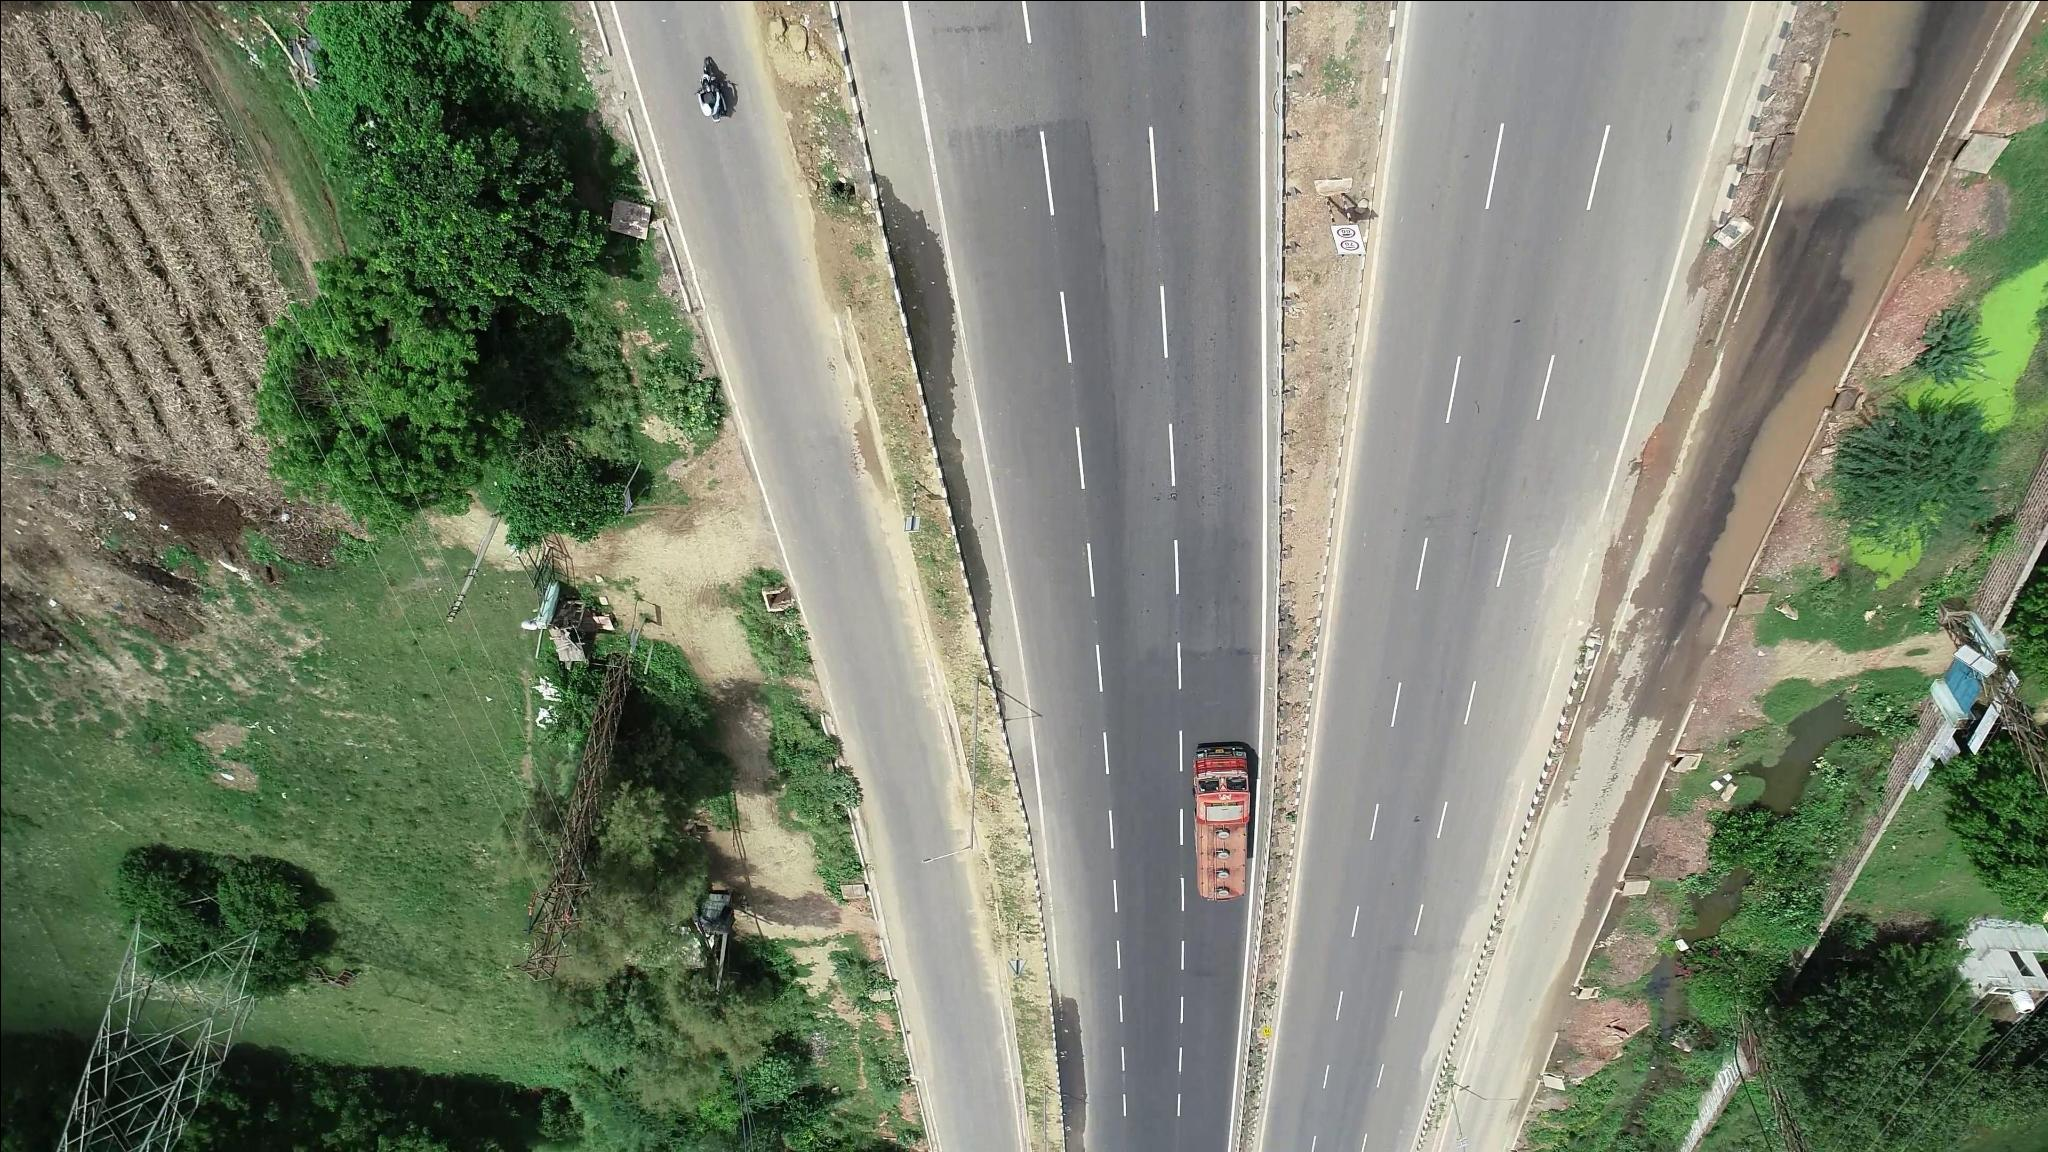Waterlogging: (1703, 359, 1838, 577), (1802, 8, 1923, 210)
